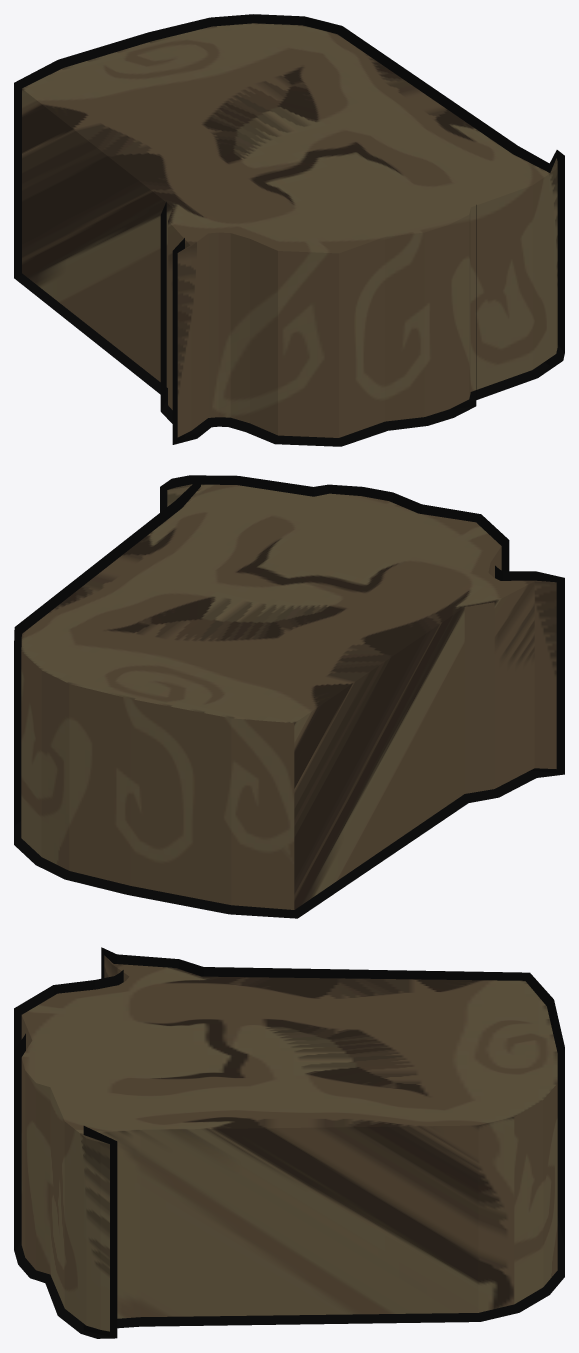
File: Building_NatureShrine_Small_Things_Building_Misc_NatureShrine_Small_NatureShrine_Small_Planks.glb
3 views of the same model, one above another, from view 1: azimuth 30°, elevation 25°; view 2: azimuth 150°, elevation 25°; view 3: azimuth 270°, elevation 25° (orthographic).
Parts seen in each view (by area): view 1: Body, Outline; view 2: Body, Outline; view 3: Body, Outline.
Part boxes in pixels (left/top/right/bottom): Body: left=22, top=23, right=557, bottom=437; Outline: left=14, top=14, right=564, bottom=446; Body: left=21, top=484, right=556, bottom=909; Outline: left=14, top=475, right=564, bottom=918; Body: left=21, top=955, right=557, bottom=1331; Outline: left=14, top=947, right=564, bottom=1338.
Size of the model in its own units: 1.78 by 0.8774 by 2.14.
Materials: 2 (1 with a texture image).
